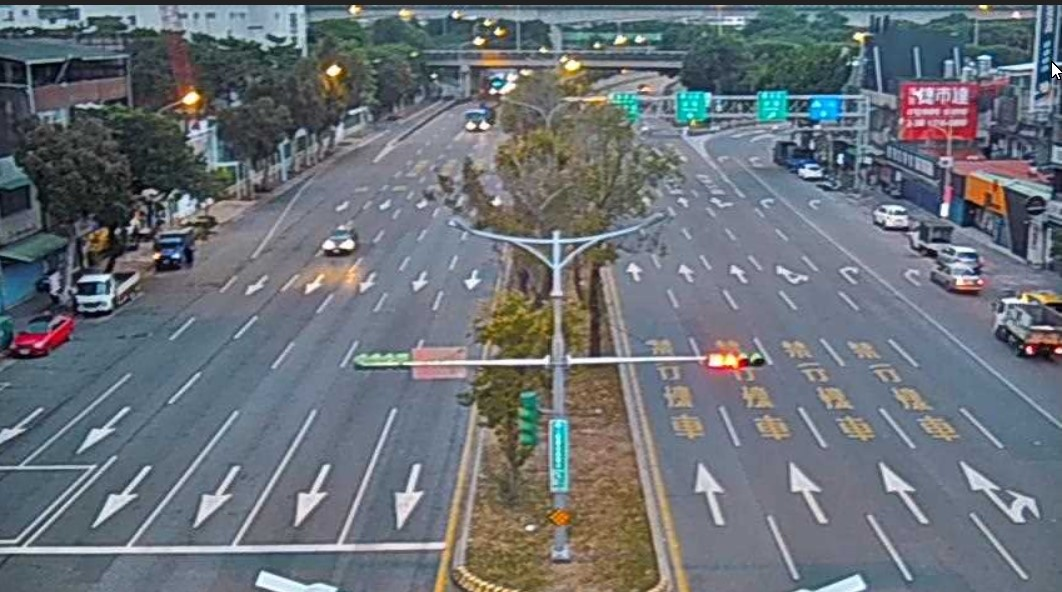Private Passenger Car: (9, 311, 74, 362), (928, 254, 979, 295), (870, 199, 909, 229), (324, 219, 356, 254), (800, 160, 825, 181)
